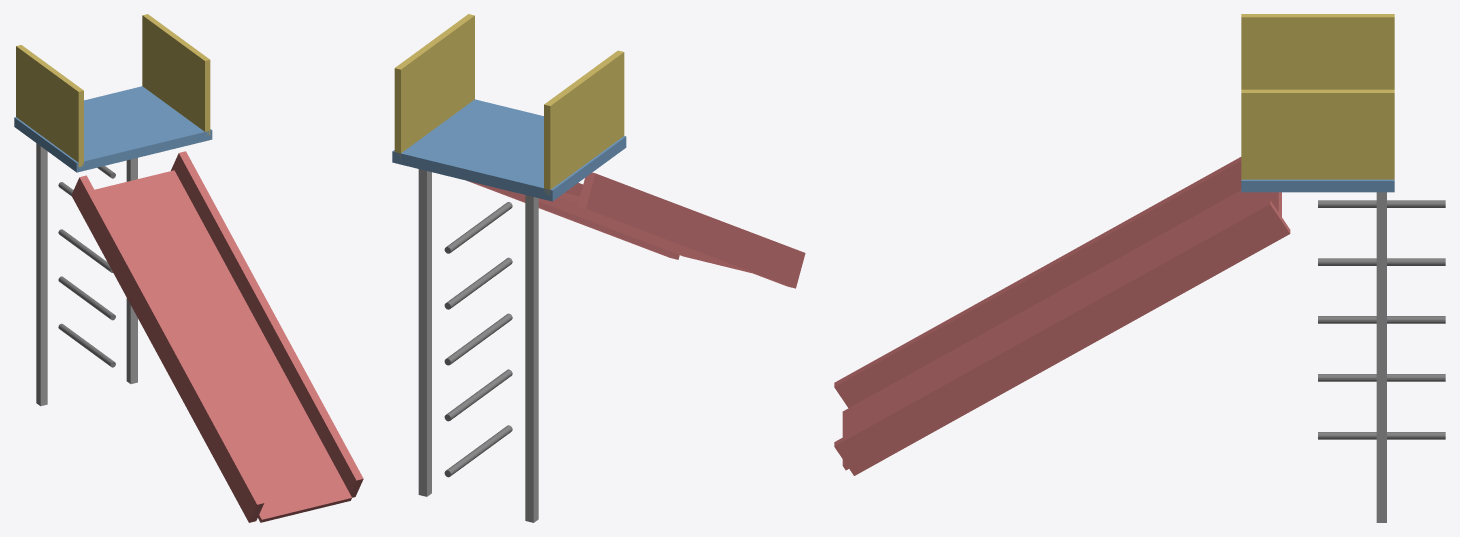
Rendered from Slide.glb.
3 renders of one model, left to right at view 1: azimuth 30°, elevation 25°; view 2: azimuth 150°, elevation 25°; view 3: azimuth 270°, elevation 25°, orthographic. The views are drawn at different scales.
Parts seen in each view (by area): view 1: world; view 2: world; view 3: world.
Part boxes in pixels (x1,y1,x2,y2): world: (14, 14, 363, 522); world: (392, 14, 805, 522); world: (834, 14, 1445, 522).
Bounding box in the file's own units: 1.5 × 3.8 × 4.78.
